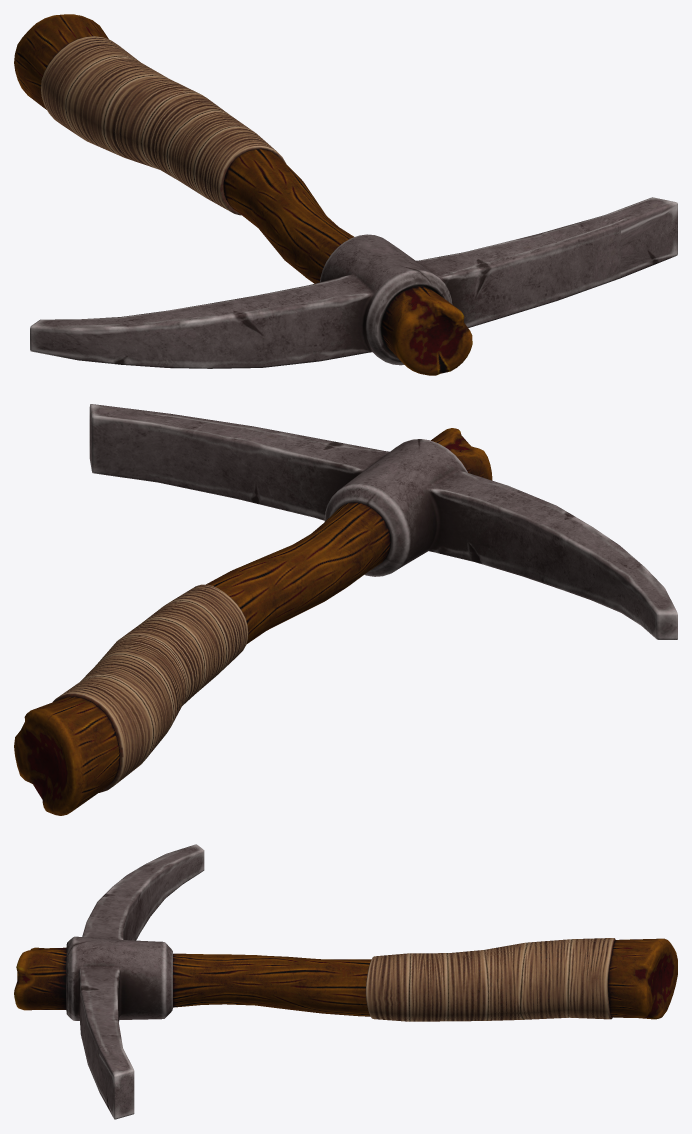
The model's file is Pickaxe.fbx.
3 views of the same model, one above another, from view 1: azimuth 30°, elevation 25°; view 2: azimuth 150°, elevation 25°; view 3: azimuth 270°, elevation 25° (orthographic). The views are drawn at different scales.
Parts seen in each view (by area): view 1: Object_2; view 2: Object_2; view 3: Object_2.
Part boxes in pixels (left/top/right/bottom): Object_2: left=14, top=14, right=677, bottom=375; Object_2: left=14, top=404, right=677, bottom=815; Object_2: left=14, top=844, right=677, bottom=1119.
Bounding box in the file's own units: 5.52 × 0.8139 × 6.37.
